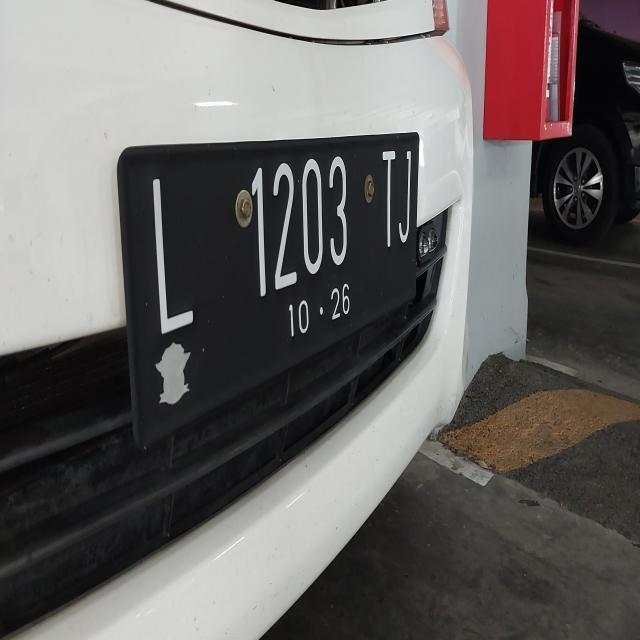0: (302, 160, 330, 282)
1: (250, 164, 272, 308)
2: (272, 162, 298, 297)
3: (329, 156, 349, 272)
J: (398, 148, 414, 244)
L: (140, 170, 206, 341)
T: (378, 147, 398, 254)
